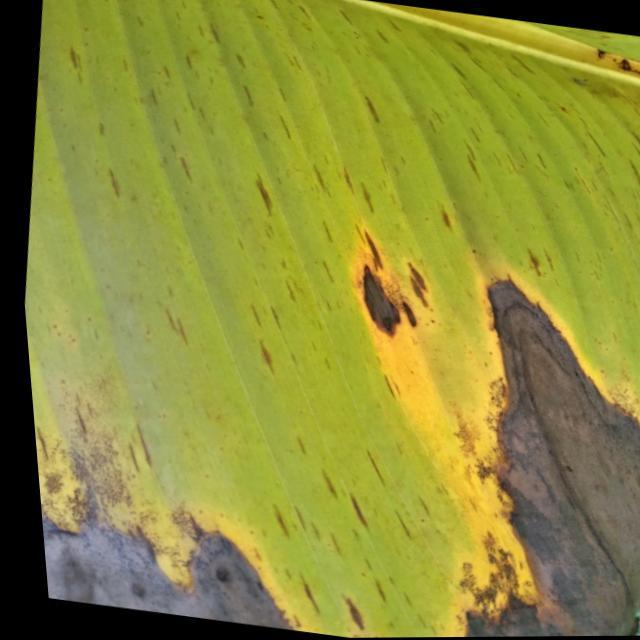Early_rust: (336, 196, 640, 640), (15, 397, 323, 640)
